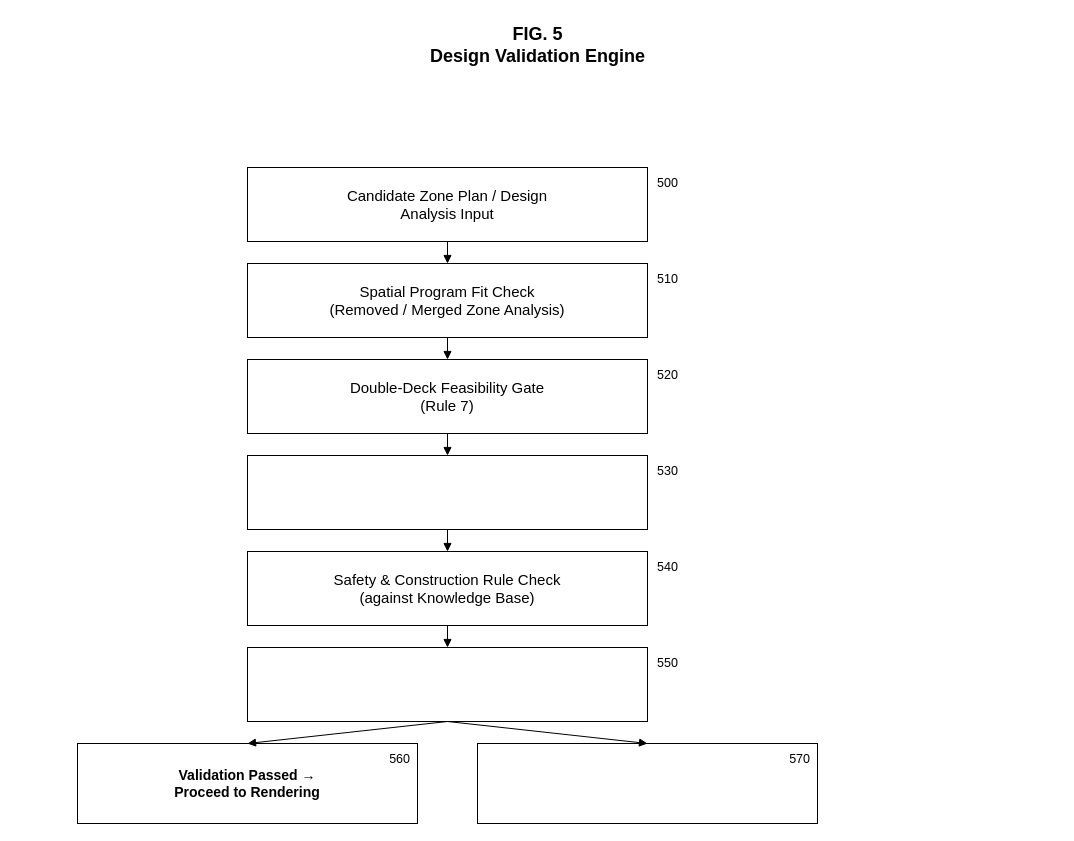
Image size: 1074x841. Some labels were removed from this diagram. The box of each missing label's shape, as (x1, y1, x2, y2) in pixels:
Dimensional & Orientation Compliance Check: (246, 454, 648, 530)
Validation Failed → Return Corrective Guidance to User (no usage quota deducted): (476, 742, 818, 824)
Validation Result Aggregator: (246, 646, 648, 722)
